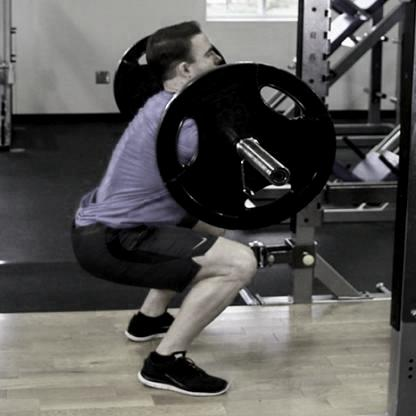Barbell: (265, 167, 290, 187)
